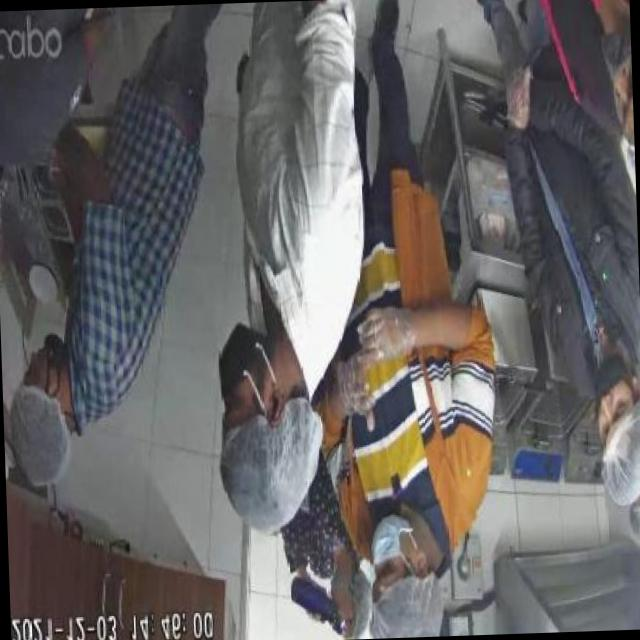hairnet: (215, 410, 319, 533), (5, 384, 67, 482), (367, 575, 443, 638), (602, 409, 640, 502), (626, 501, 640, 546)
